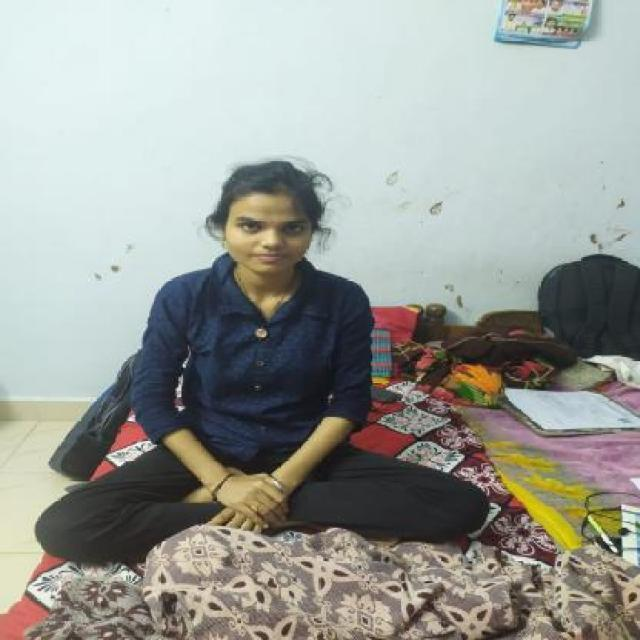good: (113, 152, 390, 537)
